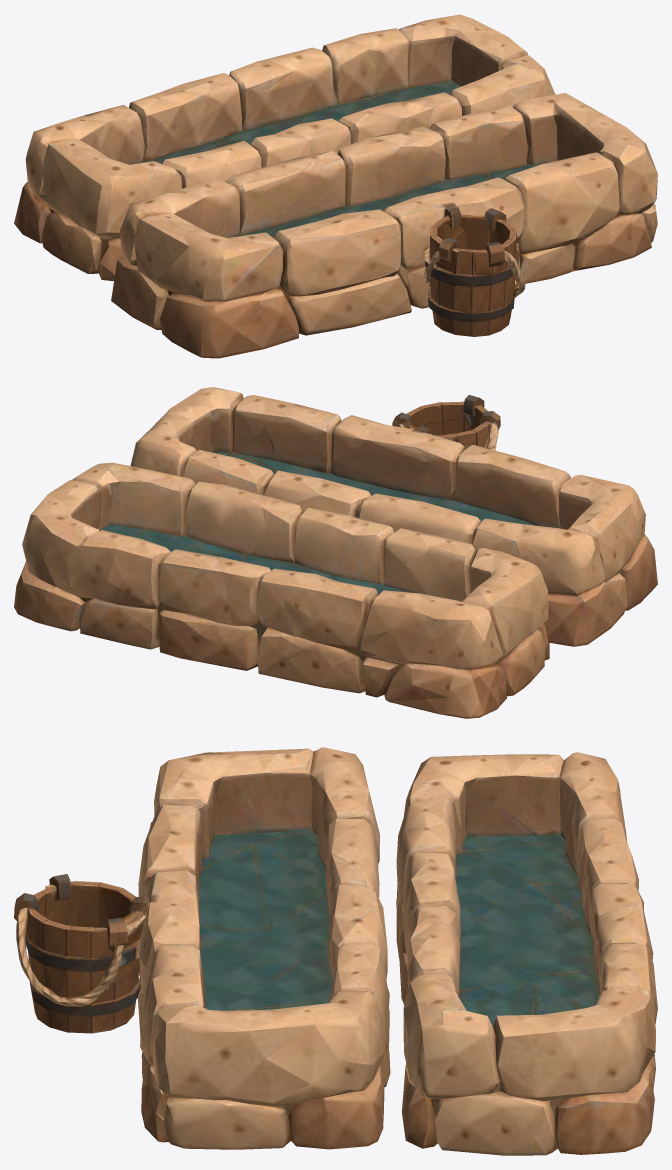
Rendered from midian-water-trough.glb.
3 renders of one model, top to bottom at view 1: azimuth 30°, elevation 25°; view 2: azimuth 150°, elevation 25°; view 3: azimuth 270°, elevation 25°, orthographic. The views are drawn at different scales.
Bounding box in the file's own units: 1.9 × 0.3777 × 1.75.
Materials: 1 (1 with a texture image).
